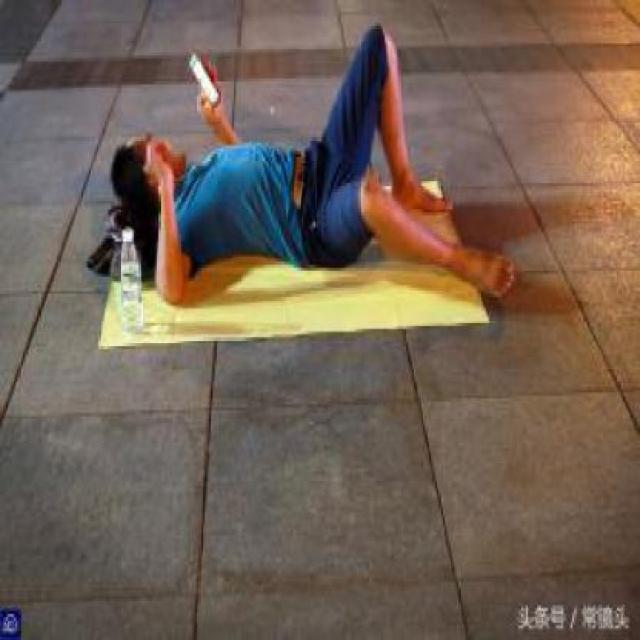fall: (94, 9, 526, 302)
